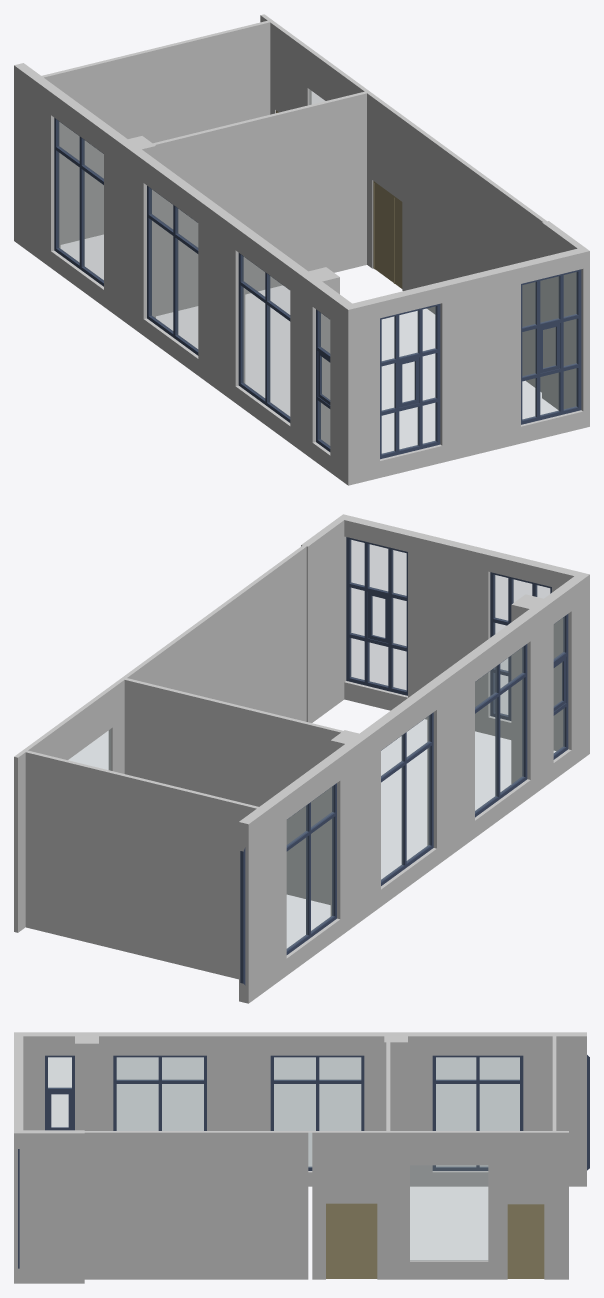
Rendered from SHCH.glb.
3 views of the same model, one above another, from view 1: azimuth 30°, elevation 25°; view 2: azimuth 150°, elevation 25°; view 3: azimuth 270°, elevation 25° (orthographic). The views are drawn at different scales.
Visible parts, largest first — view 1: SHCH; view 2: SHCH; view 3: SHCH.
Boxes of the visible parts, <box> form: SHCH: <box>14,14,589,485</box>; SHCH: <box>14,514,589,1003</box>; SHCH: <box>14,1032,589,1283</box>.
Bounding box in the file's own units: 6.08 × 4.2 × 14.56.
